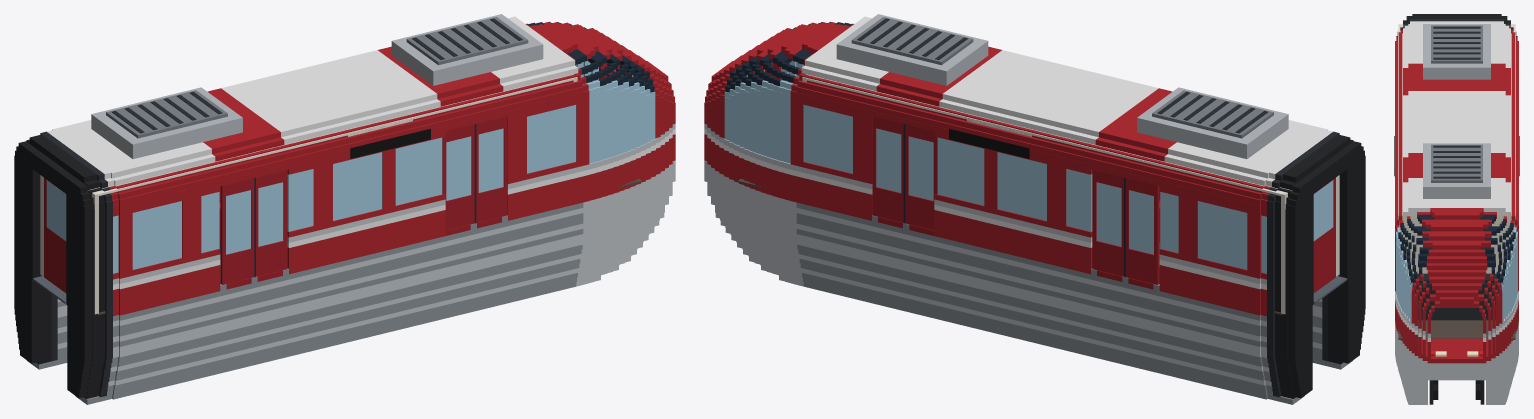
The model's file is seattle_front.obj.
The picture shows the model from 3 angles, left to right: view 1: azimuth 30°, elevation 25°; view 2: azimuth 150°, elevation 25°; view 3: azimuth 270°, elevation 25°; orthographic projection. The views are drawn at different scales.
Parts seen in each view (by area): view 1: SHELL, SHELL_roof, SHELL_diaphragm, EXTERNAL_DOOR_3_CG_DR1_TOGGLE_TL_-0.59_X, EXTERNAL_DOOR_9_CG_DR2_TOGGLE_TL_-0.59_X, EXTERNAL_DOOR_4_CG_DR1_TOGGLE_TL_0.59_X, EXTERNAL_DOOR_10_CG_DR2_TOGGLE_TL_0.59_X, CONNECTING_DOOR_1_CG_CR_TOGGLE_TL_0.98_Z, SHELL_ceiling, SHELL_end, SHELL_sign; view 2: SHELL, SHELL_roof, SHELL_diaphragm, EXTERNAL_DOOR_6_CG_DL1_TOGGLE_TL_-0.59_X, EXTERNAL_DOOR_12_CG_DL2_TOGGLE_TL_-0.59_X, EXTERNAL_DOOR_7_CG_DL1_TOGGLE_TL_0.59_X, EXTERNAL_DOOR_13_CG_DL2_TOGGLE_TL_0.59_X, CONNECTING_DOOR_1_CG_CR_TOGGLE_TL_0.98_Z, SHELL_ceiling, SHELL_end, SHELL_sign; view 3: SHELL, SHELL_roof, SHELL_desk, SHELL_floor, SHELL_cabwall, SHELL_ceiling, BOGEY_FRONT, HEADLIGHT_1.
Boxes of the visible parts, left/top/right/bottom form: SHELL: left=26, top=16, right=675, bottom=404; SHELL_roof: left=91, top=14, right=543, bottom=158; SHELL_diaphragm: left=14, top=141, right=92, bottom=398; EXTERNAL_DOOR_3_CG_DR1_TOGGLE_TL_-0.59_X: left=220, top=177, right=255, bottom=284; EXTERNAL_DOOR_9_CG_DR2_TOGGLE_TL_-0.59_X: left=442, top=124, right=476, bottom=230; EXTERNAL_DOOR_4_CG_DR1_TOGGLE_TL_0.59_X: left=256, top=170, right=287, bottom=276; EXTERNAL_DOOR_10_CG_DR2_TOGGLE_TL_0.59_X: left=476, top=116, right=507, bottom=222; CONNECTING_DOOR_1_CG_CR_TOGGLE_TL_0.98_Z: left=44, top=178, right=66, bottom=293; SHELL_ceiling: left=92, top=75, right=573, bottom=196; SHELL_end: left=40, top=175, right=98, bottom=314; SHELL_sign: left=350, top=128, right=430, bottom=158; SHELL: left=704, top=16, right=1353, bottom=404; SHELL_roof: left=836, top=14, right=1288, bottom=158; SHELL_diaphragm: left=1287, top=141, right=1365, bottom=398; EXTERNAL_DOOR_6_CG_DL1_TOGGLE_TL_-0.59_X: left=1124, top=177, right=1159, bottom=284; EXTERNAL_DOOR_12_CG_DL2_TOGGLE_TL_-0.59_X: left=903, top=124, right=937, bottom=230; EXTERNAL_DOOR_7_CG_DL1_TOGGLE_TL_0.59_X: left=1092, top=170, right=1123, bottom=276; EXTERNAL_DOOR_13_CG_DL2_TOGGLE_TL_0.59_X: left=872, top=116, right=903, bottom=222; CONNECTING_DOOR_1_CG_CR_TOGGLE_TL_0.98_Z: left=1313, top=178, right=1335, bottom=293; SHELL_ceiling: left=806, top=75, right=1287, bottom=196; SHELL_end: left=1281, top=175, right=1339, bottom=314; SHELL_sign: left=949, top=128, right=1029, bottom=158; SHELL: left=1395, top=14, right=1518, bottom=404; SHELL_roof: left=1423, top=24, right=1490, bottom=198; SHELL_desk: left=1410, top=273, right=1503, bottom=320; SHELL_floor: left=1398, top=320, right=1515, bottom=338; SHELL_cabwall: left=1398, top=214, right=1515, bottom=273; SHELL_ceiling: left=1398, top=25, right=1515, bottom=214; BOGEY_FRONT: left=1429, top=380, right=1484, bottom=404; HEADLIGHT_1: left=1435, top=351, right=1478, bottom=356.
Size of the model in its own units: 12.16 by 4.65 by 2.66.
Materials: 1 (1 with a texture image).
